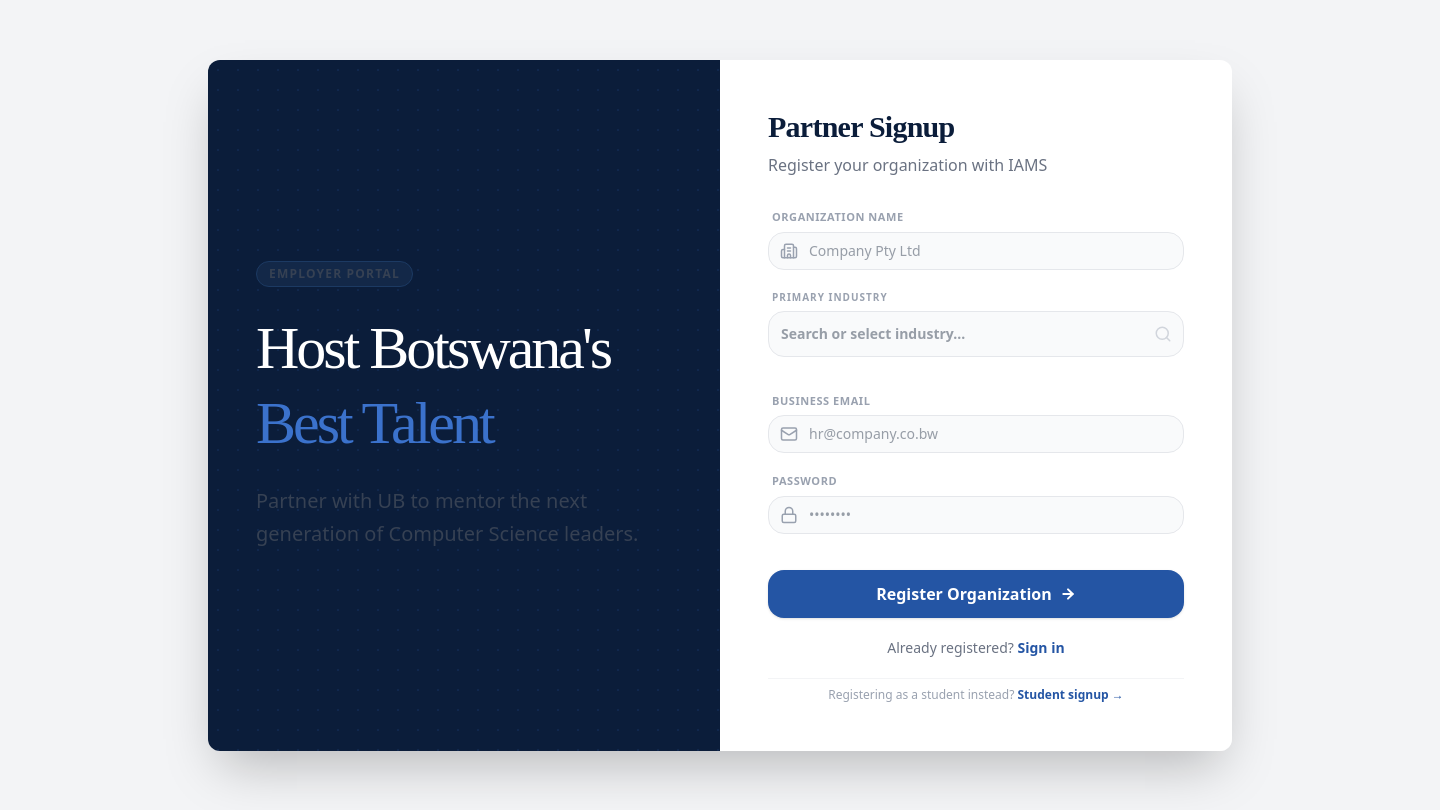
US-02: Organisation Registration › shows verification screen after successful org registration
Type "Test Org" into the field with placeholder "Company Pty Ltd". click: [976, 250]
box: [768, 232, 1184, 270]
Type "Technology" into the field with placeholder "Search or select industry...". click: [976, 334]
box: [768, 310, 1184, 356]
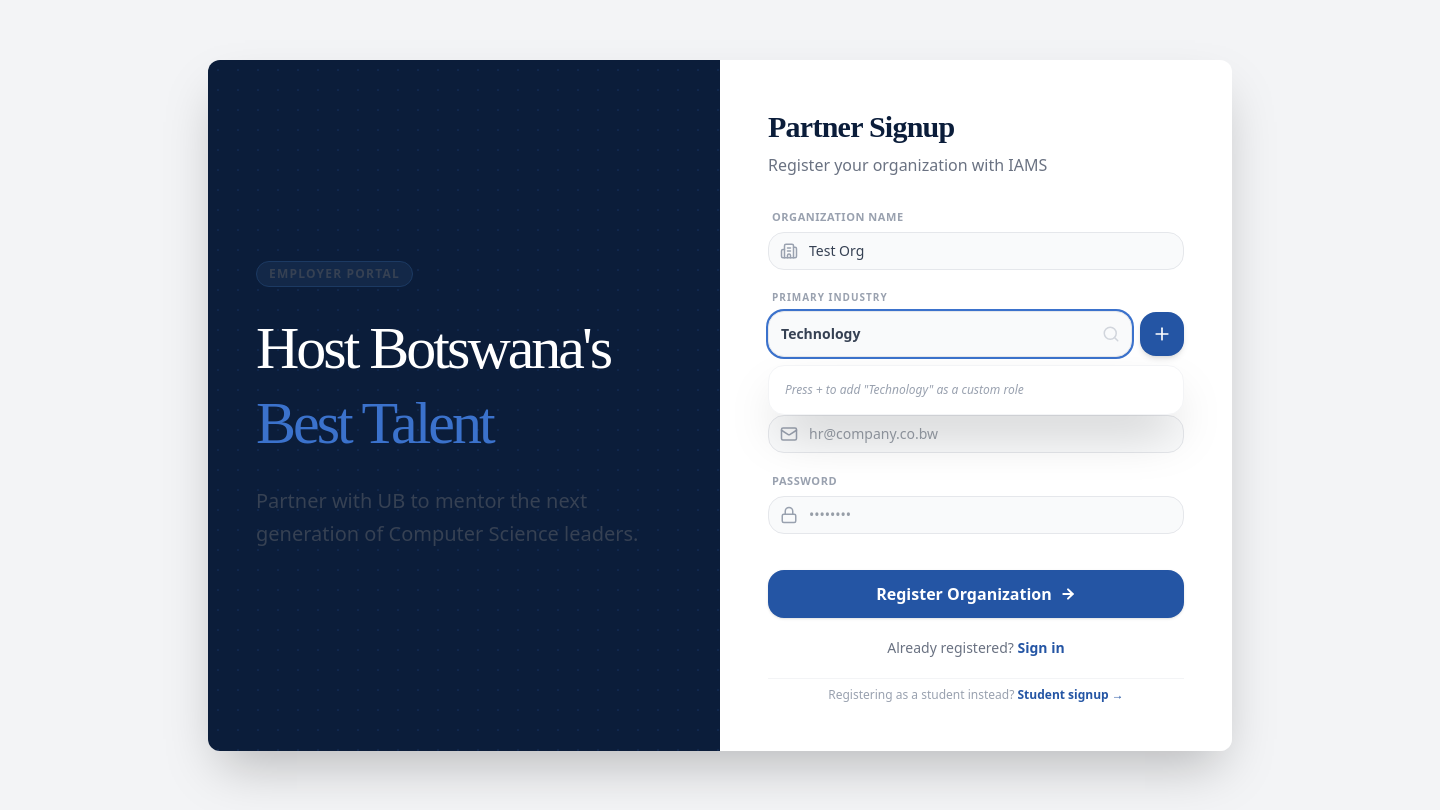
Click the 1st button. click: [1162, 334]
box: [1140, 312, 1184, 356]
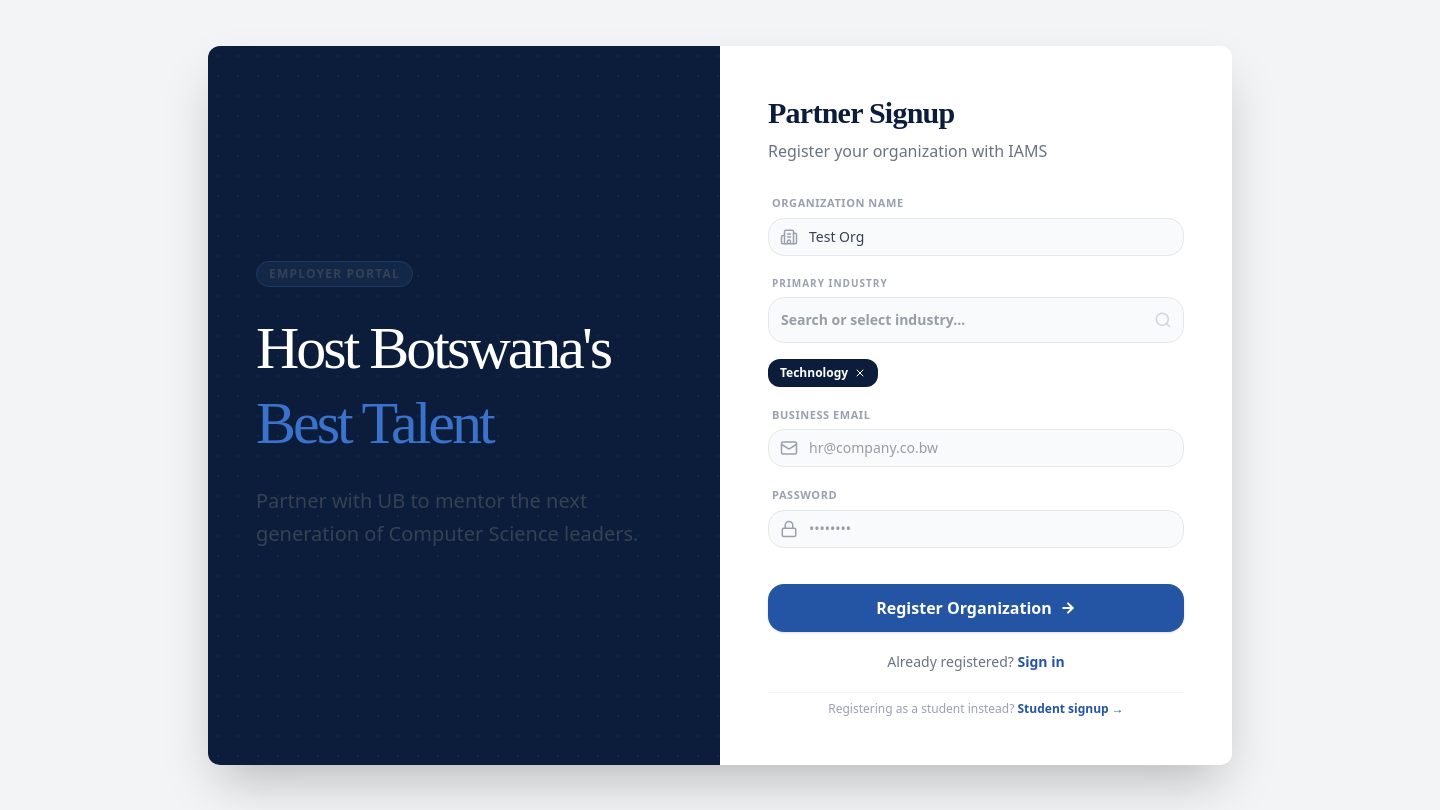
Type "hr@testorg.com" into the field with placeholder "hr@company.co.bw". click: [976, 448]
box: [768, 429, 1184, 467]
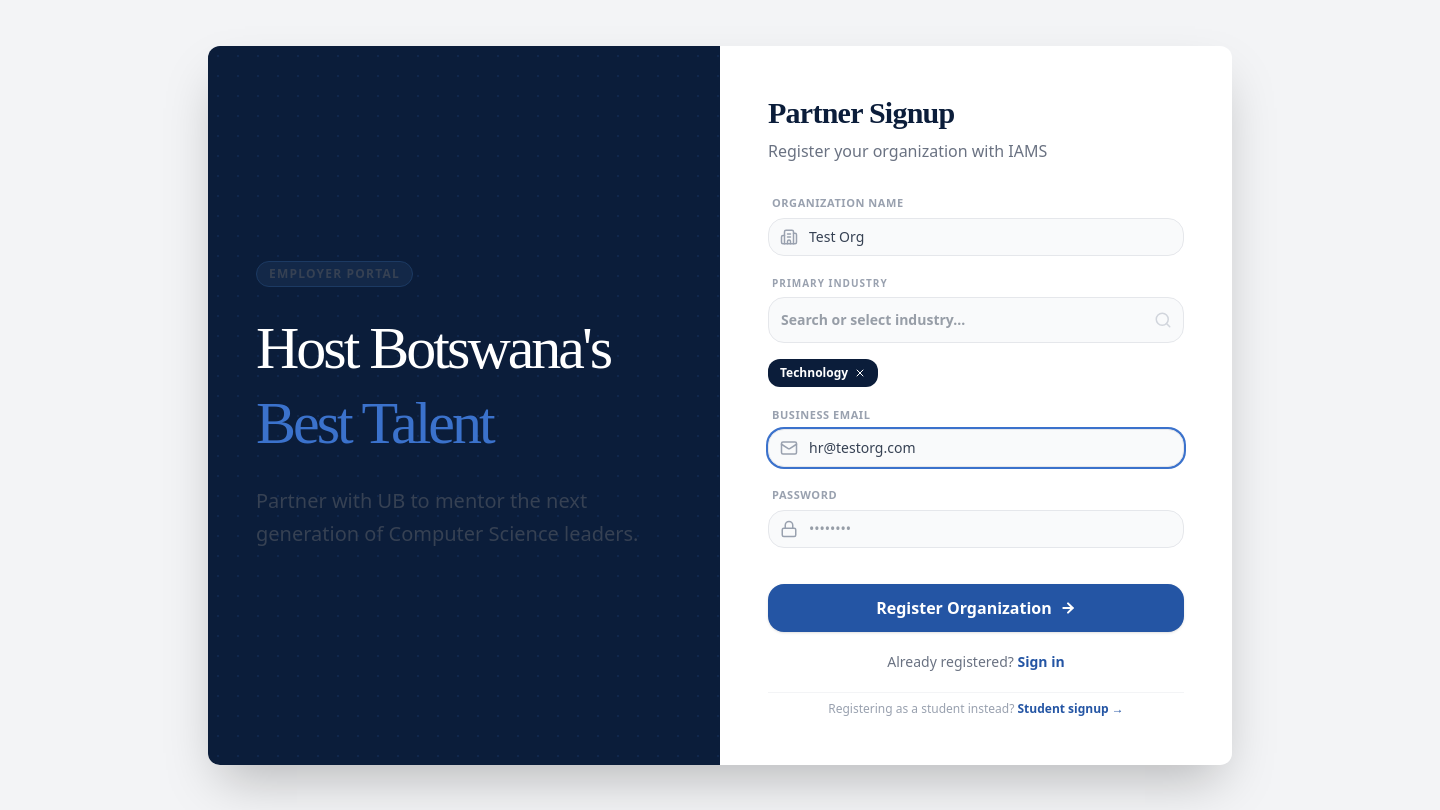
Type "Secure@123" into the password field with placeholder "••••••••". click: [976, 528]
box: [768, 510, 1184, 548]
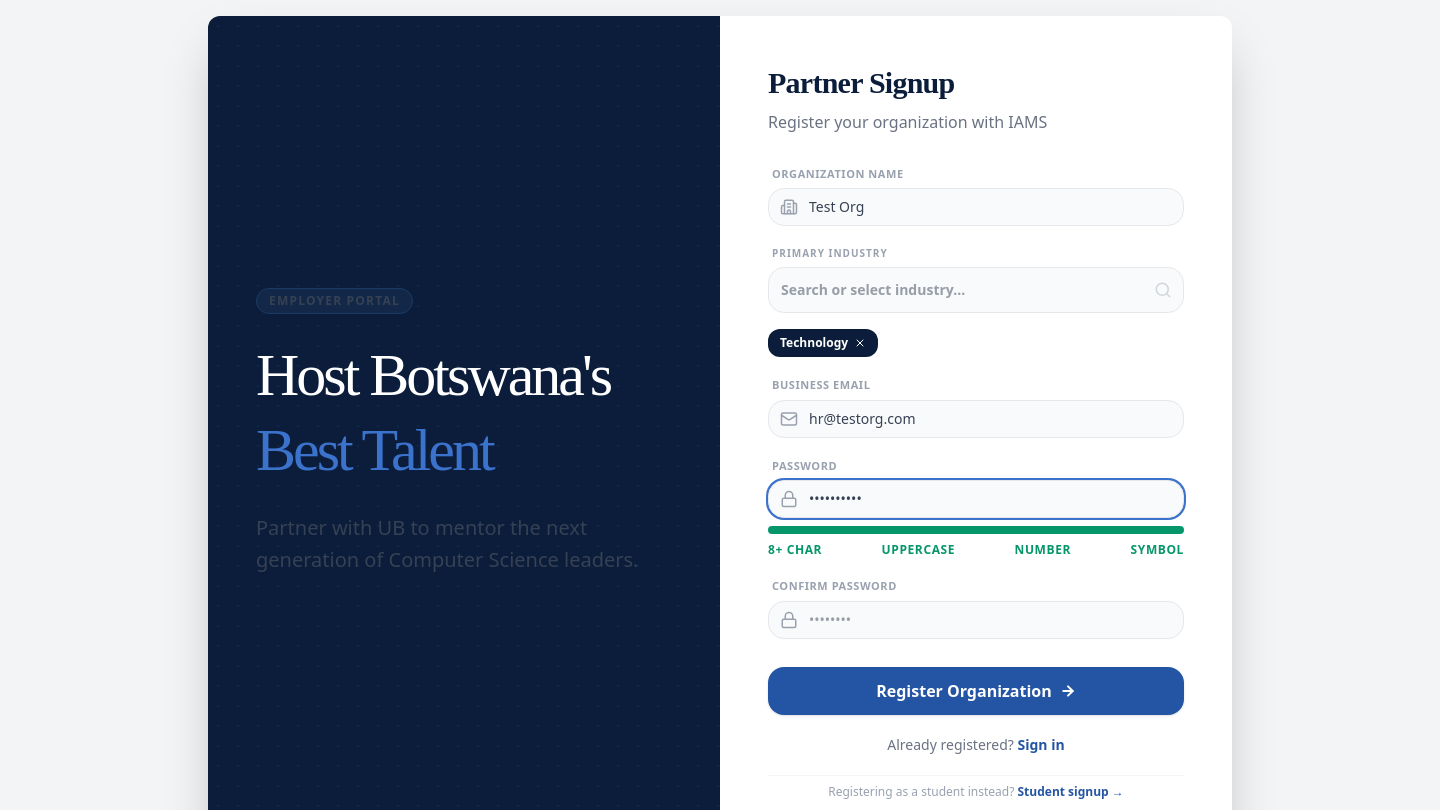
Type "Secure@123" into the password field with placeholder "••••••••". click: [976, 620]
box: [768, 600, 1184, 638]
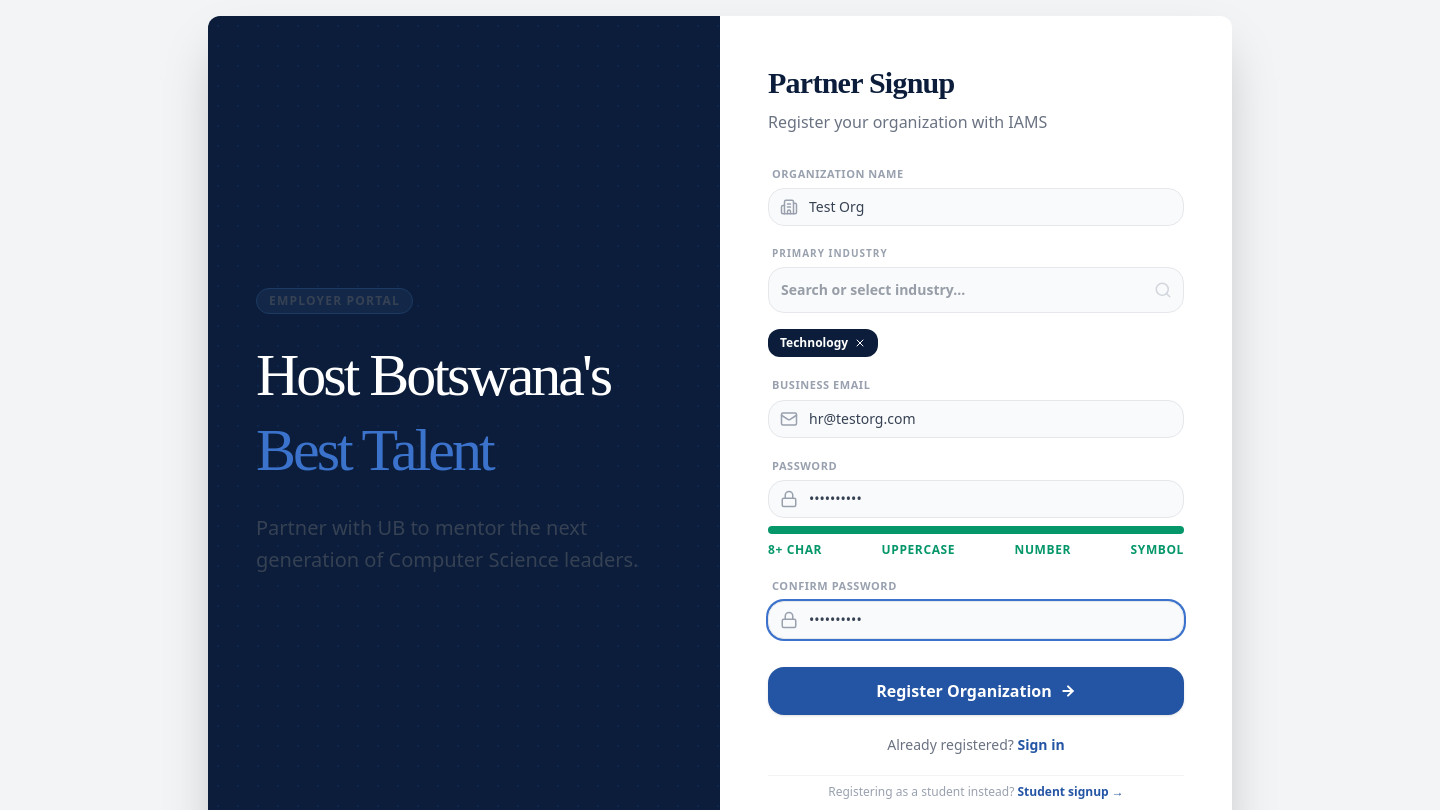
Click the button "Register Organization". click: [976, 690]
box: [768, 666, 1184, 714]
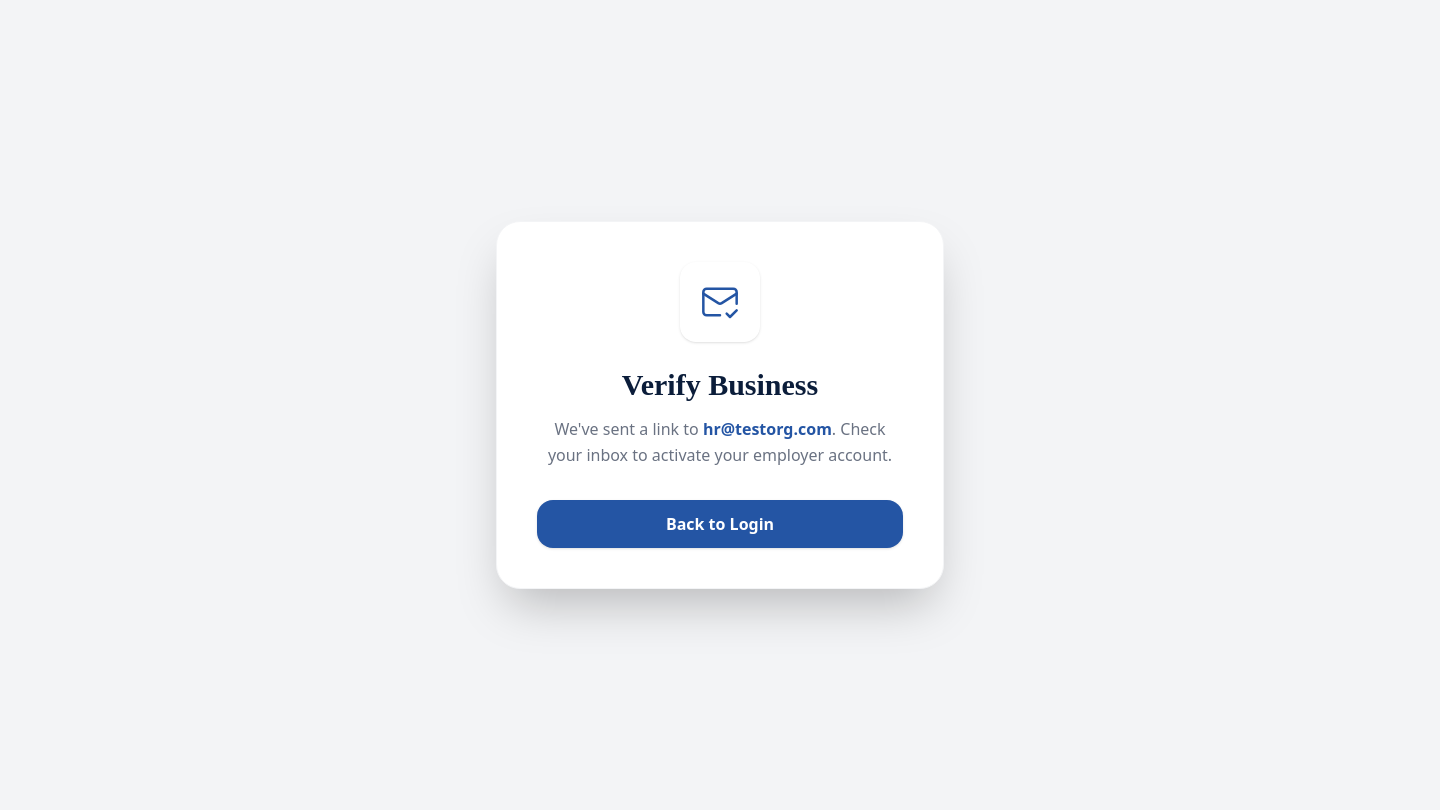
Expected: the heading "Verify Business" is shown, [622, 368, 818, 401]
